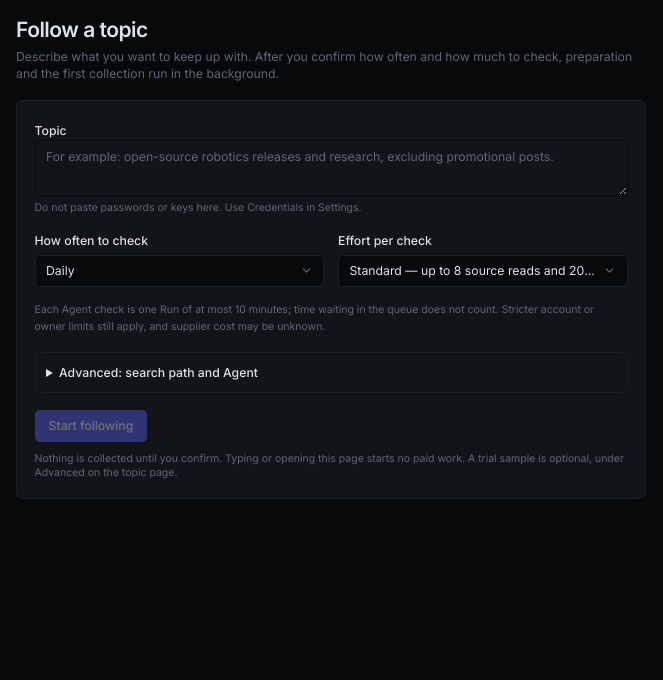
Test case: shows setup guidance and opens Advanced when the default configuration cannot search
The width and height of the screenshot is (663, 680).
Expected: the heading "Follow a topic" is shown, [16,17,148,42]
Replace the text in the text box labelled "Topic" with "Robotics". click: {"x": 331, "y": 168}
box: [34,140,628,196]
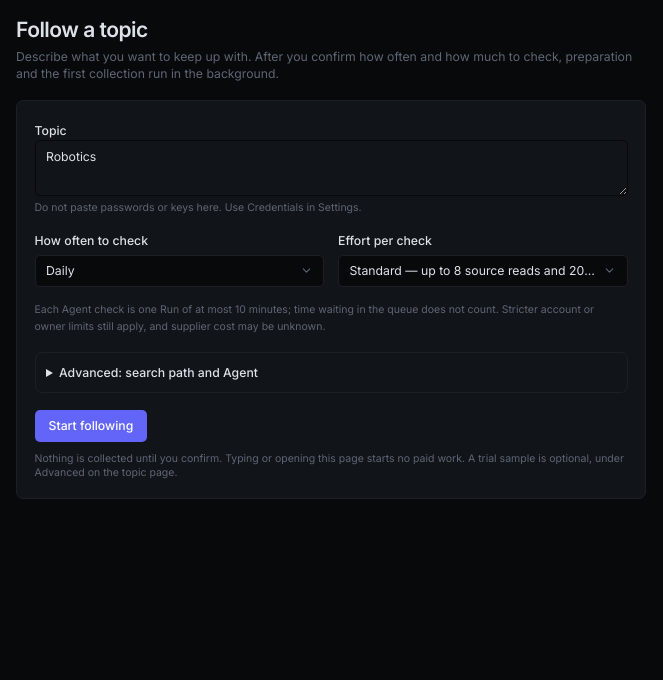
Click the button "Start following". click: {"x": 91, "y": 426}
box: [34,410,147,442]
(page scrolled)
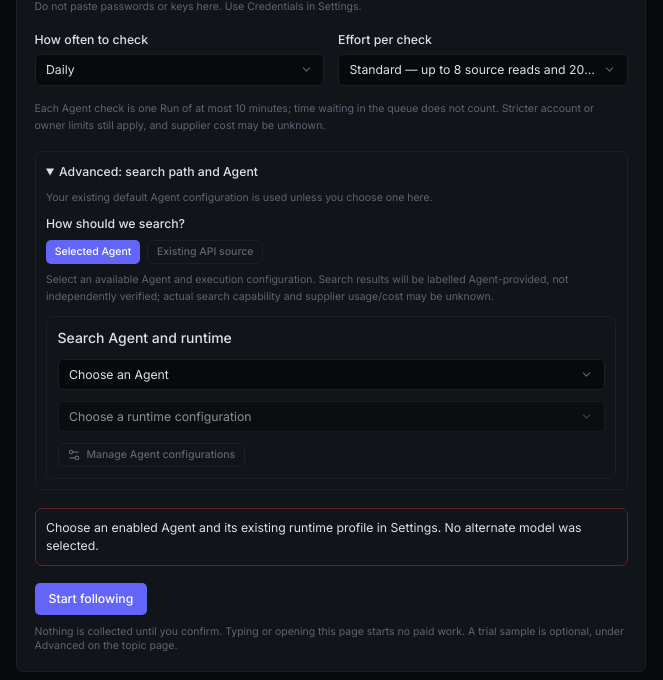
Expected: the text "Choose an enabled Agent and its existing runtime profile" is shown, [46,520,582,553]
